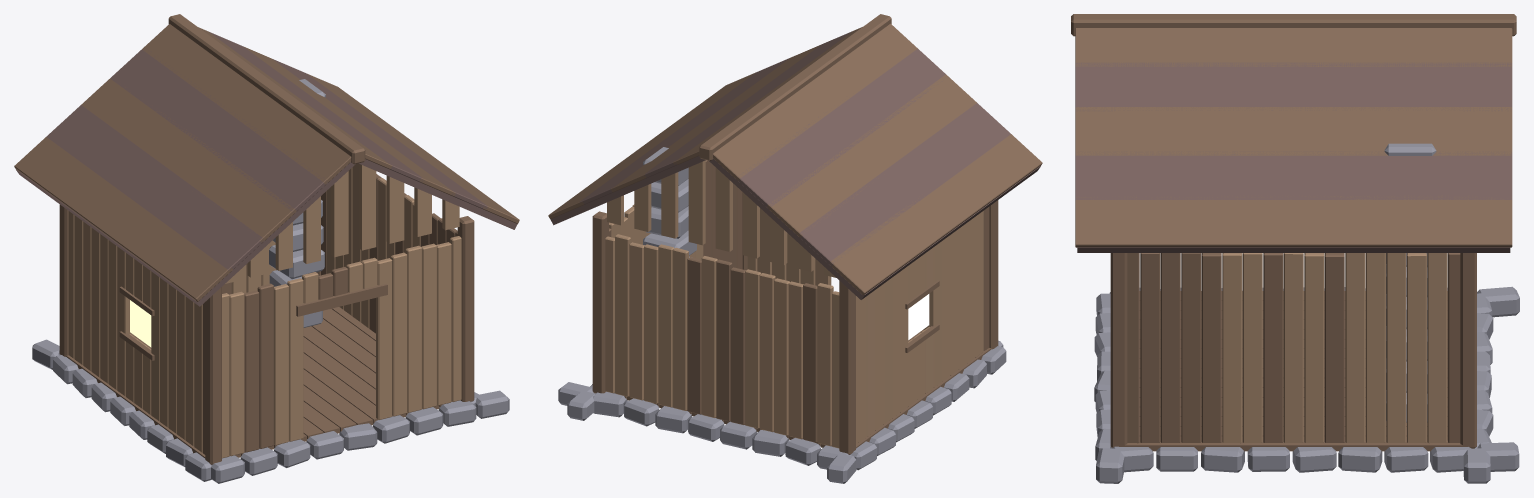
Rendered from shack.glb.
3 views of the same model, side by side, from view 1: azimuth 30°, elevation 25°; view 2: azimuth 150°, elevation 25°; view 3: azimuth 270°, elevation 25° (orthographic). The views are drawn at different scales.
Parts seen in each view (by area): view 1: Shack; view 2: Shack; view 3: Shack.
Part boxes in pixels (x1=…): Shack: x1=14, y1=14, x2=519, y2=483; Shack: x1=548, y1=14, x2=1042, y2=483; Shack: x1=1071, y1=14, x2=1519, y2=483.
Size of the model in its own units: 5.41 by 4.95 by 5.39.
